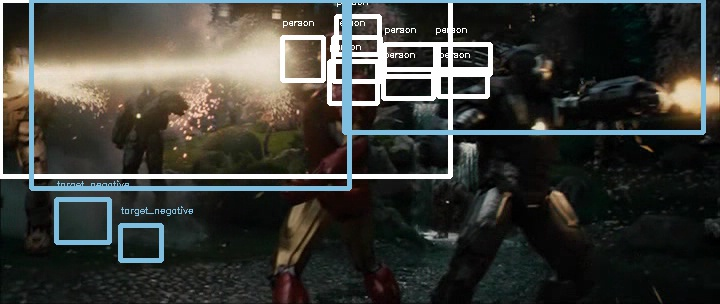person: (317, 38, 353, 78), (316, 38, 352, 78), (318, 38, 354, 78), (317, 37, 353, 77), (317, 39, 353, 79)
target_negative: (364, 76, 610, 254), (299, 58, 643, 139), (464, 239, 647, 269), (485, 195, 544, 251), (271, 185, 516, 195), (590, 221, 612, 302)
